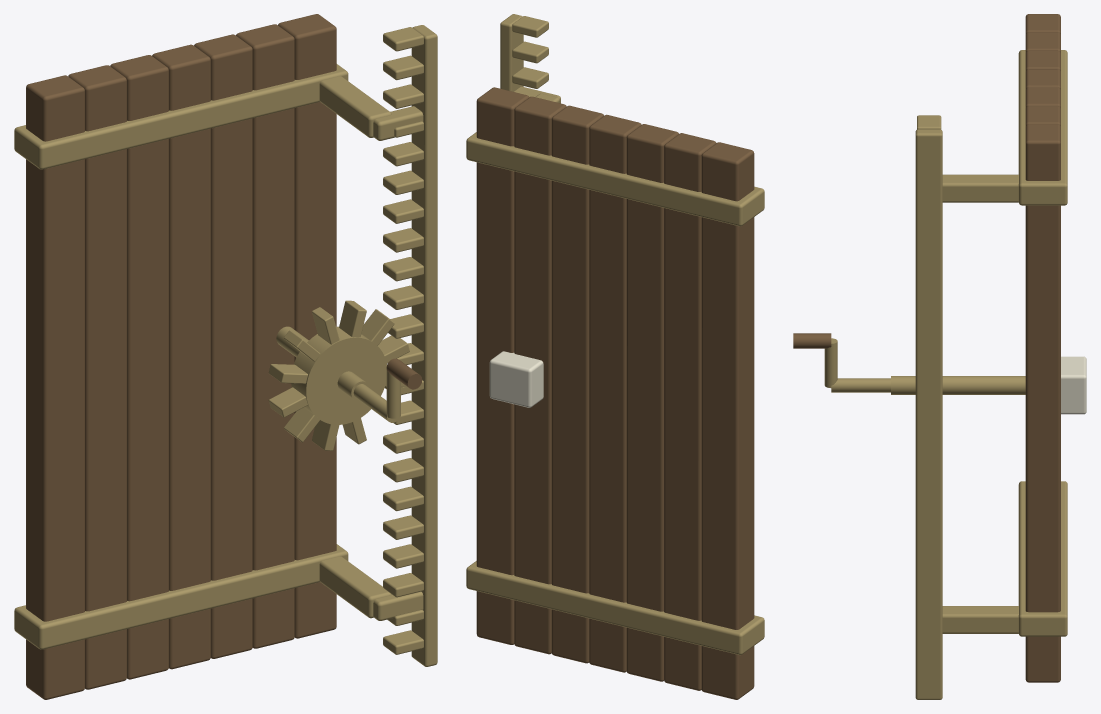
The model's file is water-clock-garden-and-hydraulic-puzzles-geared-puzzle-7267bbe0__31967.glb.
3 views of the same model, side by side, from view 1: azimuth 30°, elevation 25°; view 2: azimuth 150°, elevation 25°; view 3: azimuth 270°, elevation 25° (orthographic). The views are drawn at different scales.
Parts seen in each view (by area): view 1: geared-puzzle-door; view 2: geared-puzzle-door; view 3: geared-puzzle-door.
Boxes of the visible parts, left/top/right/bottom form: geared-puzzle-door: left=14, top=14, right=437, bottom=699; geared-puzzle-door: left=466, top=14, right=764, bottom=699; geared-puzzle-door: left=793, top=14, right=1086, bottom=699.
Size of the model in its own units: 1.3 by 2.3 by 1.08.
